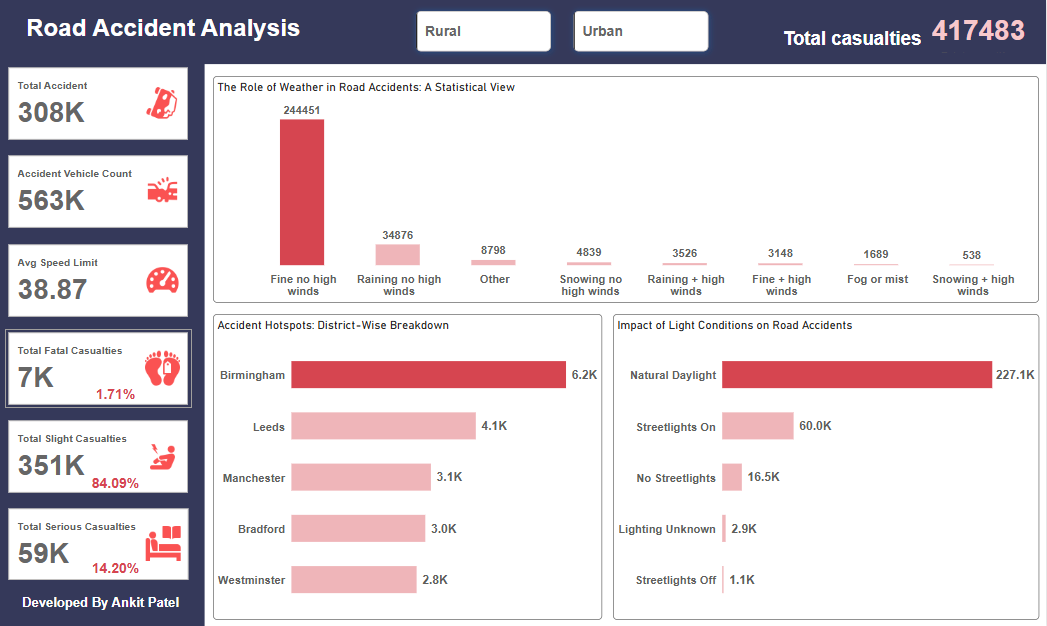

The page's visual inventory and layout, read from the dashboard file:
{"tool":"powerbi","page":{"name":"Page 2","canvas":[1500,900],"ordinal":1},"visuals":[{"type":"shape","box":[1204.3,432.9,295.7,467.1],"z":0},{"type":"shape","box":[0,0,1500,93.3],"z":1000},{"type":"shape","box":[0,0,298.3,900],"z":2000},{"type":"actionButton","title":"Road Accident Analysis","box":[38.6,12.9,408.6,40],"z":3000},{"type":"cardVisual","fields":{"Data":["Measure Table.Total Accident"]},"box":[13.3,93.3,266.7,113.3],"z":4000},{"type":"cardVisual","fields":{"Data":["Measure Table.Total Fatal Casualties"]},"box":[13.3,471,266.7,113.3],"z":5000},{"type":"cardVisual","fields":{"Data":["Measure Table.Total Serious Casualties"]},"box":[12.9,722.9,267.1,112.9],"z":6000},{"type":"cardVisual","fields":{"Data":["Measure Table.Total Slight Casualties"]},"box":[13.3,597,266.7,113.3],"z":7000},{"type":"cardVisual","fields":{"Data":["Measure Table.Accident Vehicle Count"]},"box":[13.3,219.2,266.7,113.3],"z":8000},{"type":"cardVisual","fields":{"Data":["Measure Table.Avg Speed Limit"]},"box":[13.3,345.1,266.7,113.3],"z":9000},{"type":"card","fields":{"Values":["Measure Table.Slight %"]},"box":[117.1,678.6,107.1,27.1],"z":10000},{"type":"card","fields":{"Values":["Measure Table.Serious %"]},"box":[117.1,800,107.1,27.1],"z":11000},{"type":"card","fields":{"Values":["Measure Table.Deaths %"]},"box":[117.1,550,107.1,31.4],"z":12000},{"type":"card","fields":{"Values":["Measure Table.Total casualties"]},"box":[1317.1,24.3,172.9,57.1],"z":13000},{"type":"actionButton","title":"Total casualties","box":[1115.7,41.4,214.3,40],"z":14000},{"type":"actionButton","title":"Developed By Ankit Patel","box":[0,851.4,298.6,28.6],"z":15000},{"type":"advancedSlicerVisual","fields":{"Values":["Road Accident Dataa.Urban_or_Rural_Area"]},"box":[582.9,0,452.9,92.9],"z":17000},{"type":"image","box":[1204.3,814.3,112.9,85.7],"z":18001},{"type":"image","box":[1204.3,430,112.9,85.7],"z":18002},{"type":"image","box":[1204.3,522.9,112.9,80],"z":18003},{"type":"image","box":[1204.3,711.4,112.9,95.7],"z":18004},{"type":"image","box":[1204.3,610,112.9,94.3],"z":18005},{"type":"card","fields":{"Values":["Measure Table.Car"]},"box":[1330,437.1,170,75.7],"z":18006},{"type":"shape","box":[1317.1,460,28.6,31.4],"z":18007},{"type":"shape","box":[1317.1,550,28.6,31.4],"z":18008},{"type":"shape","box":[1317.1,641.4,28.6,31.4],"z":18009},{"type":"shape","box":[1315.7,747.1,28.6,31.4],"z":18010},{"type":"shape","box":[1317.1,841.4,28.6,31.4],"z":18011},{"type":"card","fields":{"Values":["Measure Table.Bus"]},"box":[1331.4,731.4,168.6,57.1],"z":18012},{"type":"card","fields":{"Values":["Measure Table.Other"]},"box":[1337.1,821.4,162.9,70],"z":18013},{"type":"card","fields":{"Values":["Measure Table.Motorcycle"]},"box":[1331.4,625.7,168.6,67.1],"z":18014},{"type":"card","fields":{"Values":["Measure Table.Agricultural"]},"box":[1331.4,527.1,168.6,75.7],"z":18015},{"type":"tableEx","fields":{"Values":["Road Accident Dataa.Hour","Measure Table.Total Accident","Measure Table.Total Fatal Casualties","Measure Table.Total Serious Casualties","Measure Table.Total Slight Casualties"]},"box":[310,122.9,572.9,750],"z":18016},{"type":"donutChart","title":"Casualties by Area","fields":{"Category":["Road Accident Dataa.Urban_or_Rural_Area"],"Y":["Measure Table.Total casualties"]},"box":[894.3,430,297.1,442.9],"z":18017},{"type":"donutChart","title":"Casualties Over the Years","fields":{"Y":["Measure Table.Total casualties"],"Category":["Date Table.Year"]},"box":[894.3,121.4,594.3,295.7],"z":18018}]}

Visuals, with their boxes in screenshot pixels (x1, y1, x2, y2), scaled from the page's 1500x900 canvas onto the 1047x626 screenshot:
shape: x1=841, y1=301, x2=1046, y2=625
shape: x1=0, y1=0, x2=1046, y2=65
shape: x1=0, y1=0, x2=208, y2=625
"Road Accident Analysis" actionButton: x1=27, y1=9, x2=312, y2=37
cardVisual - Measure Table.Total Accident: x1=9, y1=65, x2=195, y2=144
cardVisual - Measure Table.Total Fatal Casualties: x1=9, y1=328, x2=195, y2=406
cardVisual - Measure Table.Total Serious Casualties: x1=9, y1=503, x2=195, y2=581
cardVisual - Measure Table.Total Slight Casualties: x1=9, y1=415, x2=195, y2=494
cardVisual - Measure Table.Accident Vehicle Count: x1=9, y1=152, x2=195, y2=231
cardVisual - Measure Table.Avg Speed Limit: x1=9, y1=240, x2=195, y2=319
card - Measure Table.Slight %: x1=82, y1=472, x2=156, y2=491
card - Measure Table.Serious %: x1=82, y1=556, x2=156, y2=575
card - Measure Table.Deaths %: x1=82, y1=383, x2=156, y2=404
card - Measure Table.Total casualties: x1=919, y1=17, x2=1040, y2=57
"Total casualties" actionButton: x1=779, y1=29, x2=928, y2=57
"Developed By Ankit Patel" actionButton: x1=0, y1=592, x2=208, y2=612
advancedSlicerVisual - Road Accident Dataa.Urban_or_Rural_Area: x1=407, y1=0, x2=723, y2=65
image: x1=841, y1=566, x2=919, y2=625
image: x1=841, y1=299, x2=919, y2=359
image: x1=841, y1=364, x2=919, y2=419
image: x1=841, y1=495, x2=919, y2=561
image: x1=841, y1=424, x2=919, y2=490
card - Measure Table.Car: x1=928, y1=304, x2=1046, y2=357
shape: x1=919, y1=320, x2=939, y2=342
shape: x1=919, y1=383, x2=939, y2=404
shape: x1=919, y1=446, x2=939, y2=468
shape: x1=918, y1=520, x2=938, y2=541
shape: x1=919, y1=585, x2=939, y2=607
card - Measure Table.Bus: x1=929, y1=509, x2=1046, y2=548
card - Measure Table.Other: x1=933, y1=571, x2=1046, y2=620
card - Measure Table.Motorcycle: x1=929, y1=435, x2=1046, y2=482
card - Measure Table.Agricultural: x1=929, y1=367, x2=1046, y2=419
tableEx - Road Accident Dataa.Hour x Measure Table.Total Accident: x1=216, y1=85, x2=616, y2=607
"Casualties by Area" donutChart: x1=624, y1=299, x2=832, y2=607
"Casualties Over the Years" donutChart: x1=624, y1=84, x2=1039, y2=290
